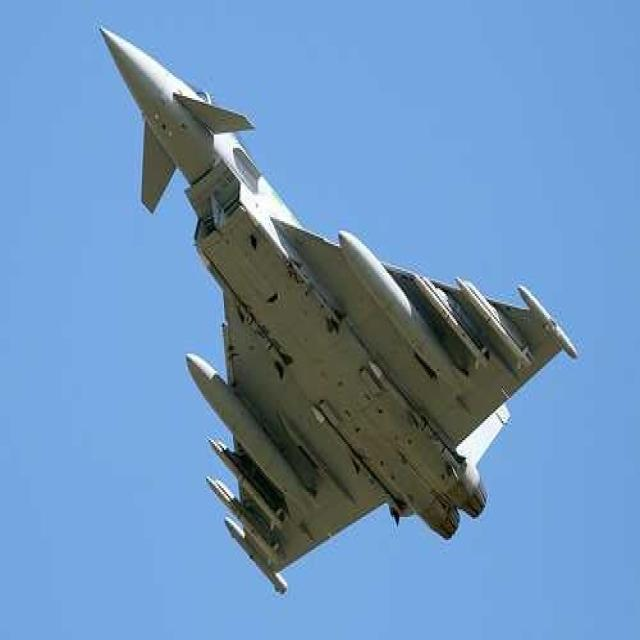missile: (455, 274, 535, 374)
